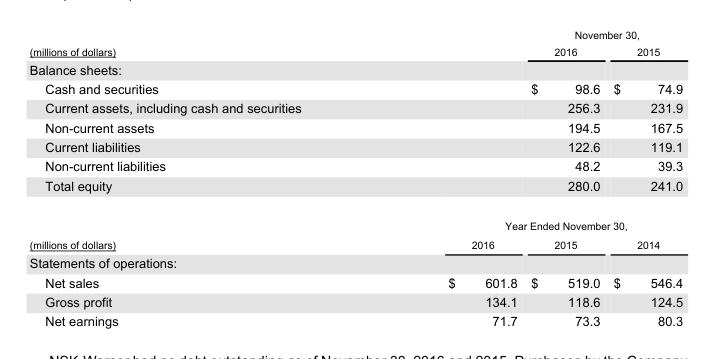table: (28, 28, 682, 328)
table column: (28, 28, 374, 328), (374, 28, 523, 328), (523, 28, 606, 328), (606, 28, 682, 328)
table column header: (28, 28, 682, 59)
table projected row header: (28, 59, 682, 78), (28, 253, 682, 272)
table row: (28, 175, 682, 206), (28, 206, 682, 235), (28, 78, 682, 98), (28, 136, 682, 156), (28, 291, 682, 311), (28, 59, 682, 78), (28, 98, 682, 117), (28, 117, 682, 136), (28, 156, 682, 175), (28, 253, 682, 272), (28, 272, 682, 291), (28, 235, 682, 253), (28, 42, 682, 59), (28, 311, 682, 328), (28, 28, 682, 42)
table spanning cell: (28, 28, 374, 59), (374, 206, 682, 235), (523, 28, 682, 42)
